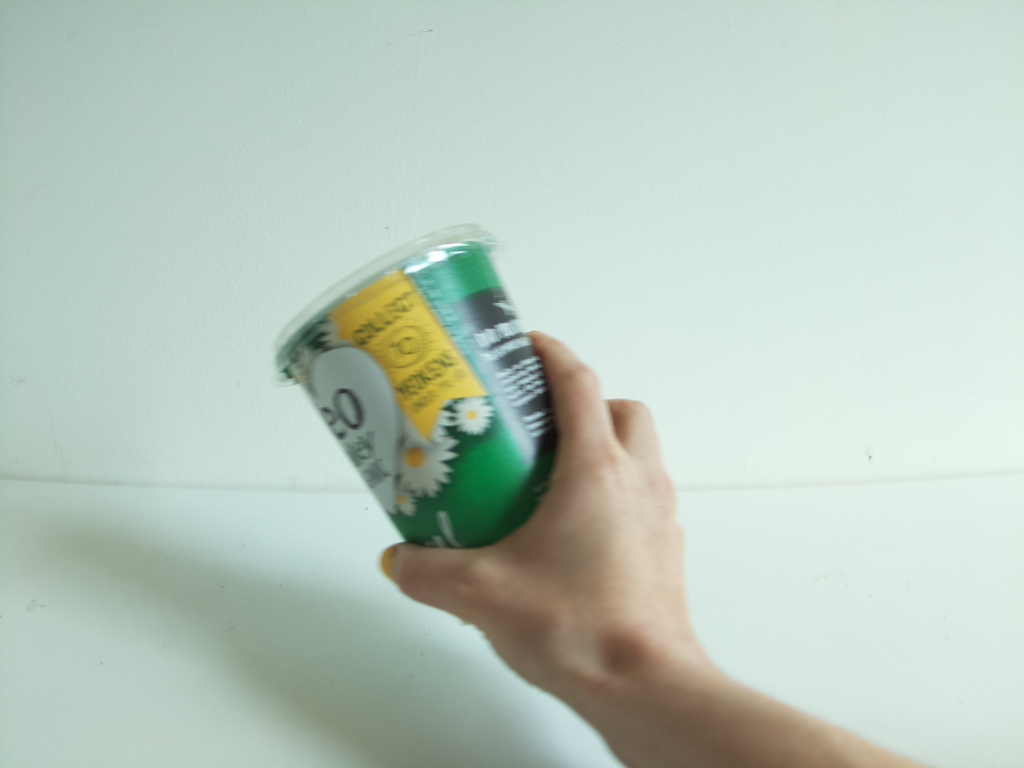yogurt: (270, 219, 566, 556)
